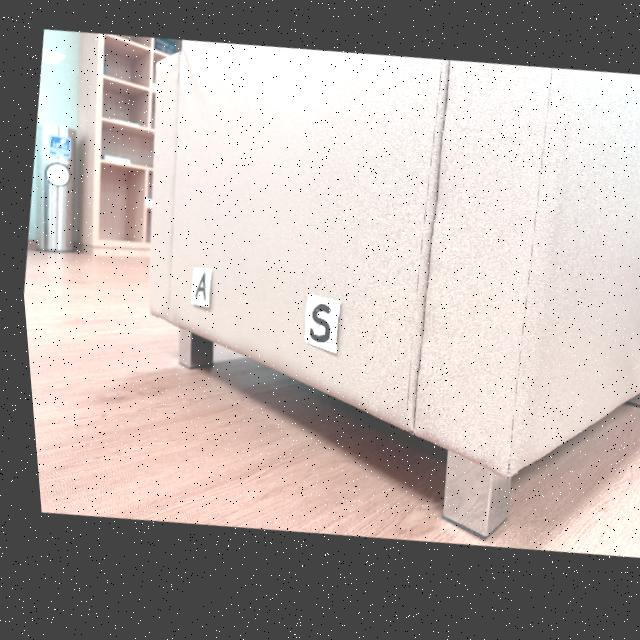A: (190, 276, 201, 303)
S: (304, 309, 325, 348)
